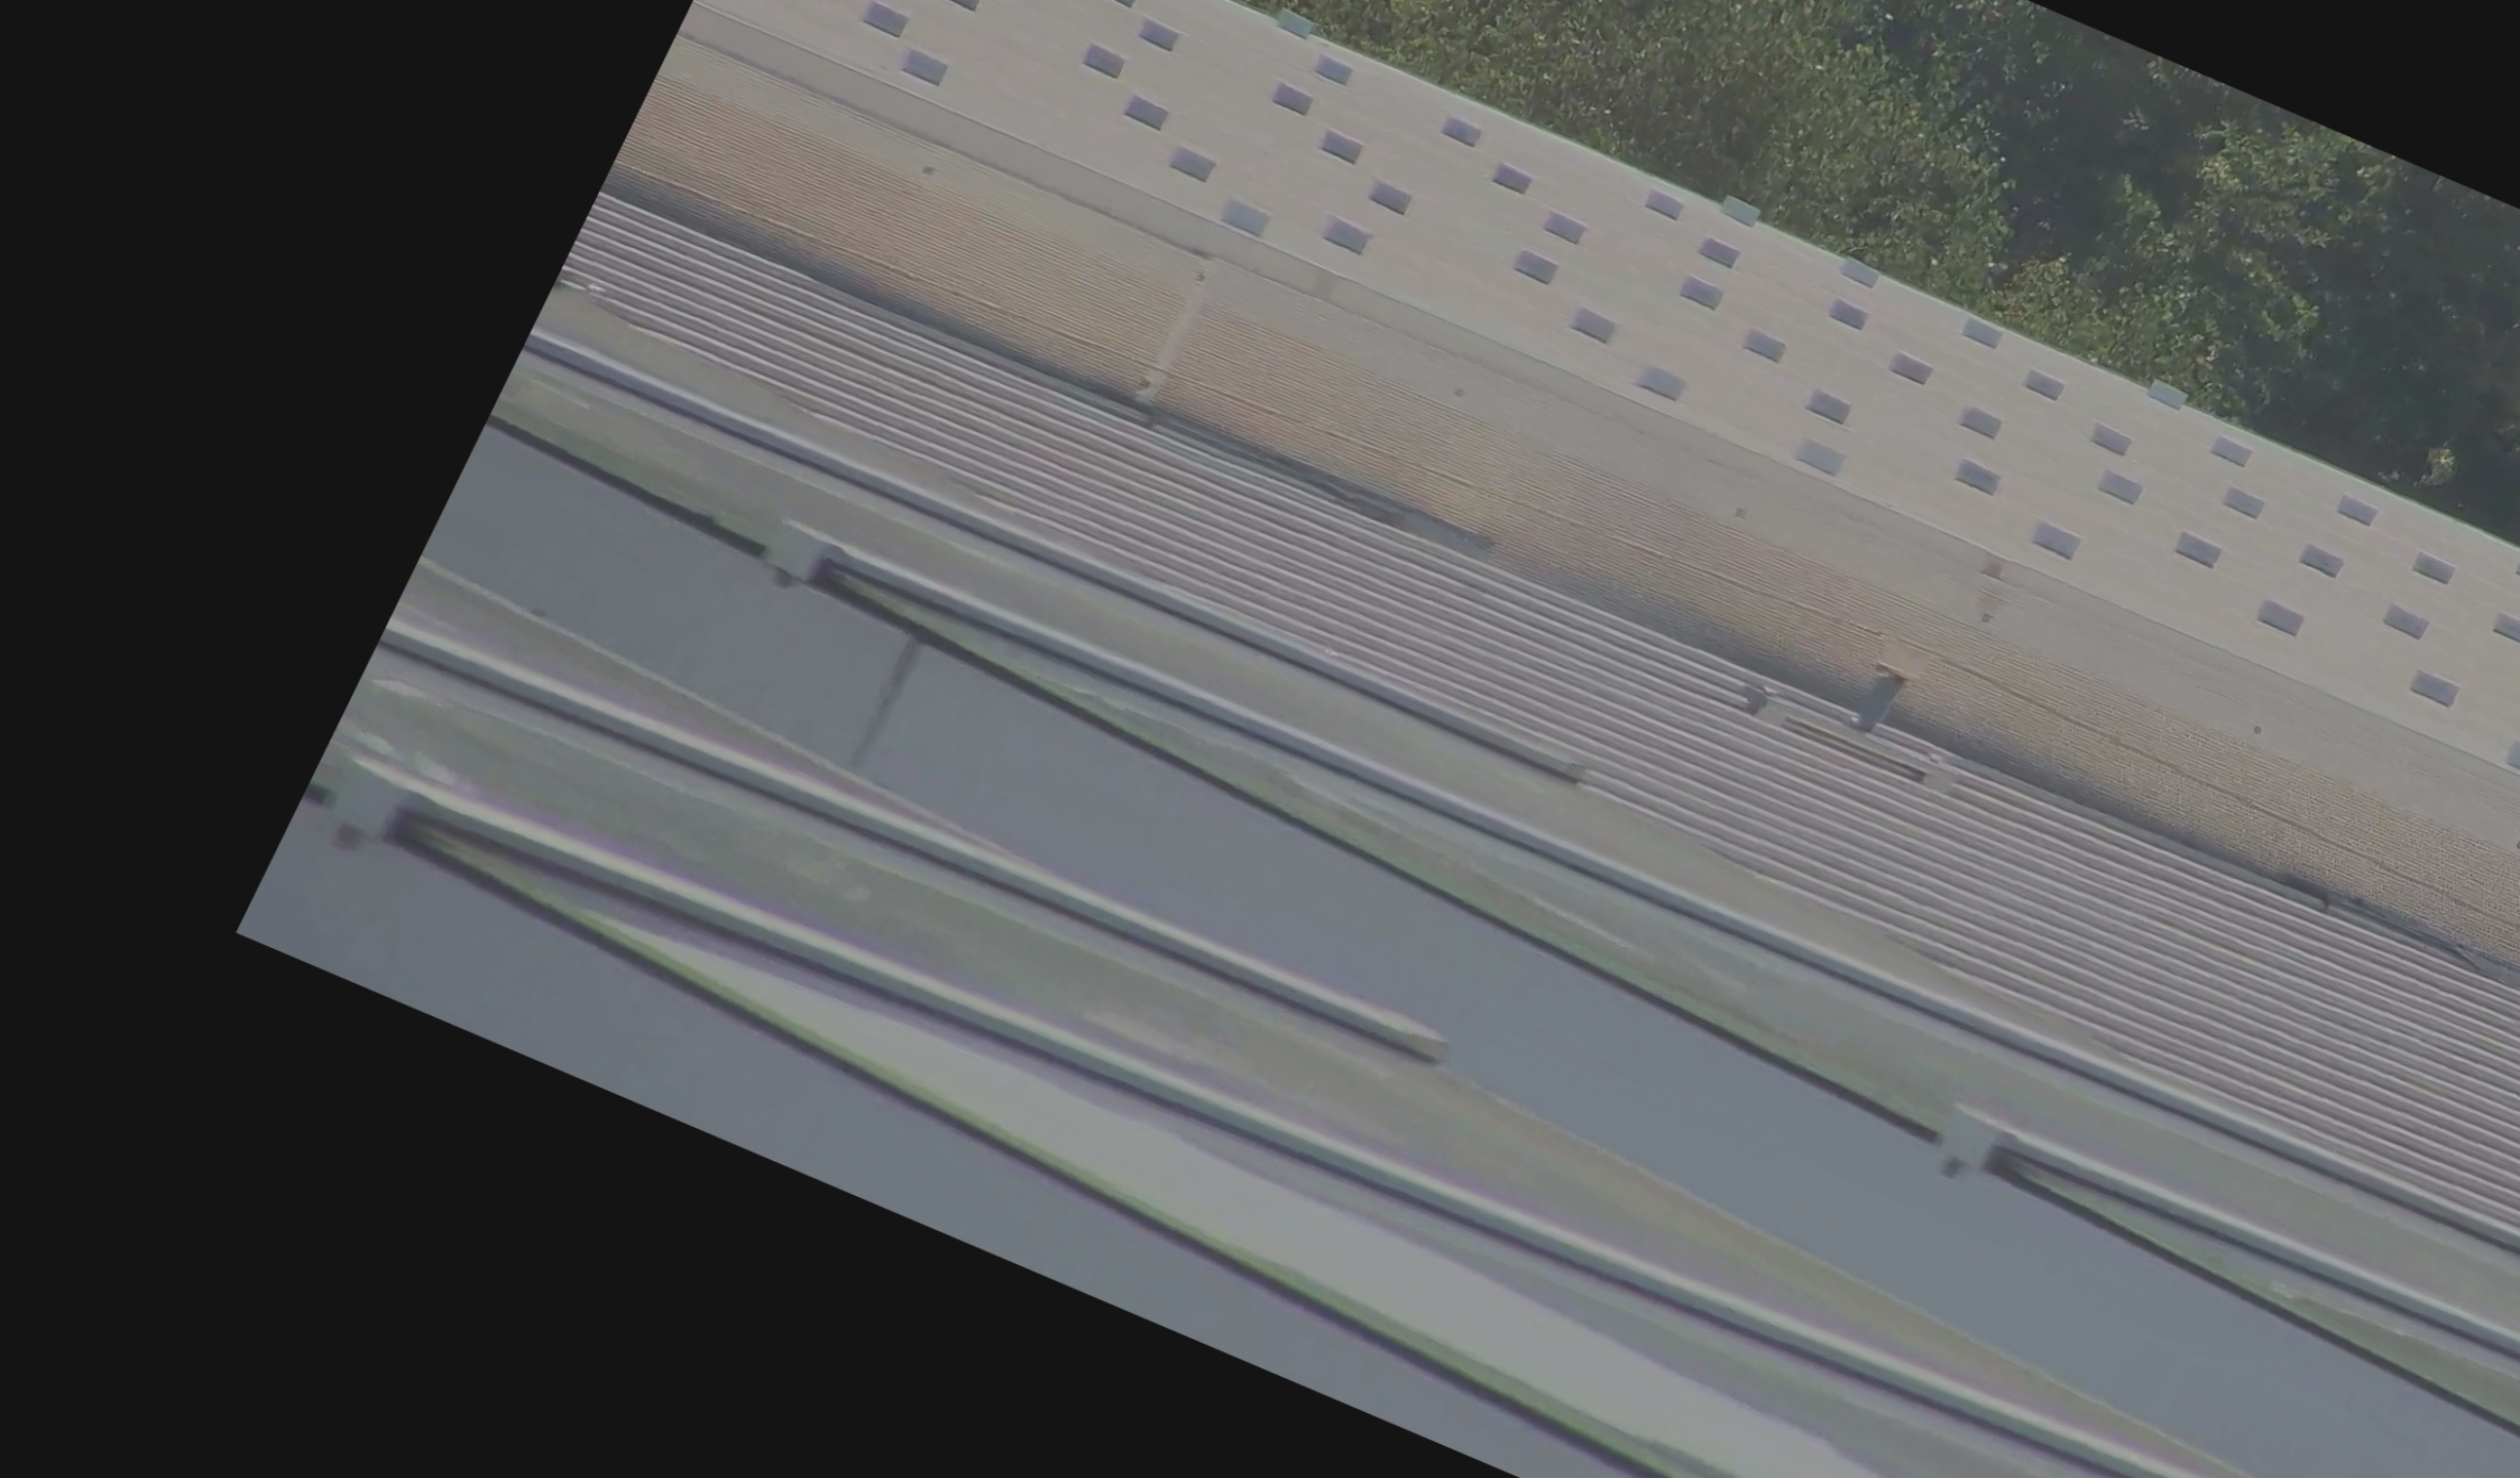Other: (1827, 648, 1920, 750)
